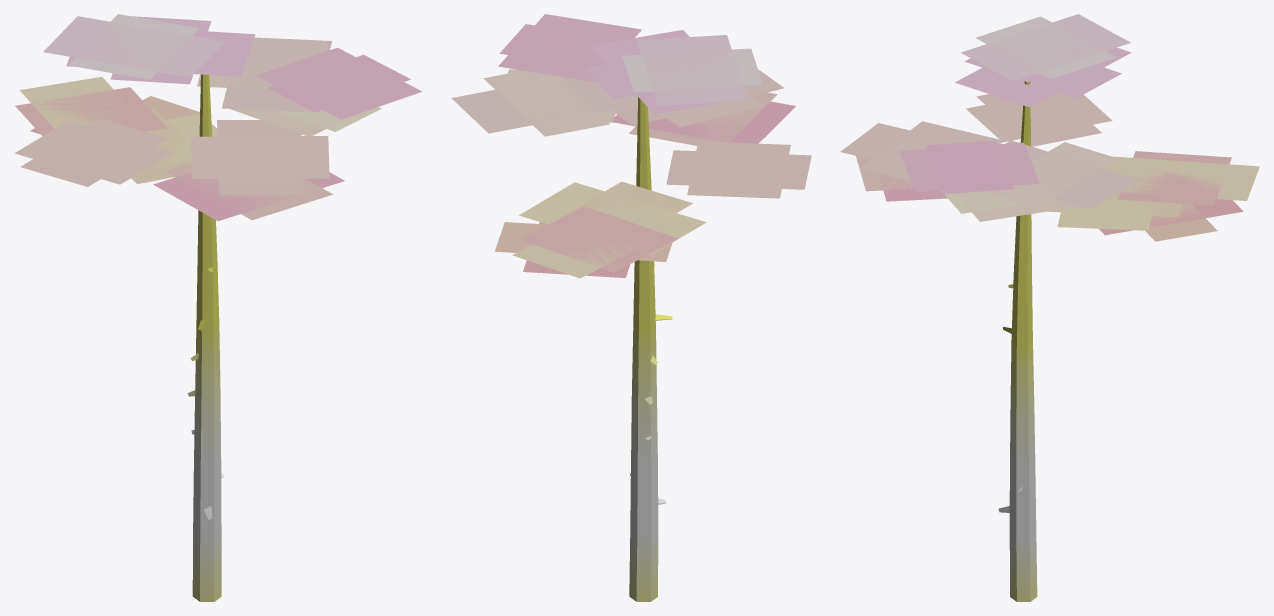
File: tree_pine_3.glb
3 views of the same model, side by side, from view 1: azimuth 30°, elevation 25°; view 2: azimuth 150°, elevation 25°; view 3: azimuth 270°, elevation 25° (orthographic). The views are drawn at different scales.
Visible parts, largest first — view 1: tree_pine_3; view 2: tree_pine_3; view 3: tree_pine_3.
Part boxes in pixels (<box>): tree_pine_3: <box>14,14,422,601</box>; tree_pine_3: <box>451,14,811,601</box>; tree_pine_3: <box>840,14,1259,601</box>.
Size of the model in its own units: 6.72 by 10.6 by 7.74.
